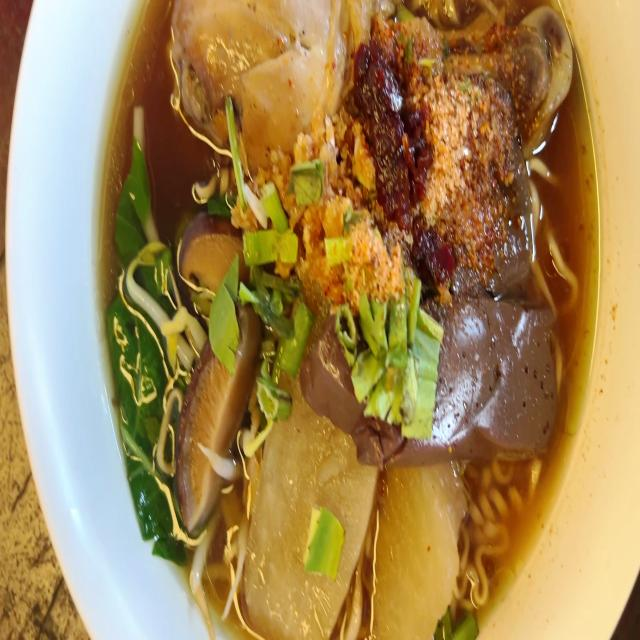boiled_chicken_blood_jelly: (434, 285, 562, 449)
chicken_drumstick: (163, 0, 570, 166)
daikon_radish: (233, 463, 460, 640)
noodle: (86, 0, 602, 640)
